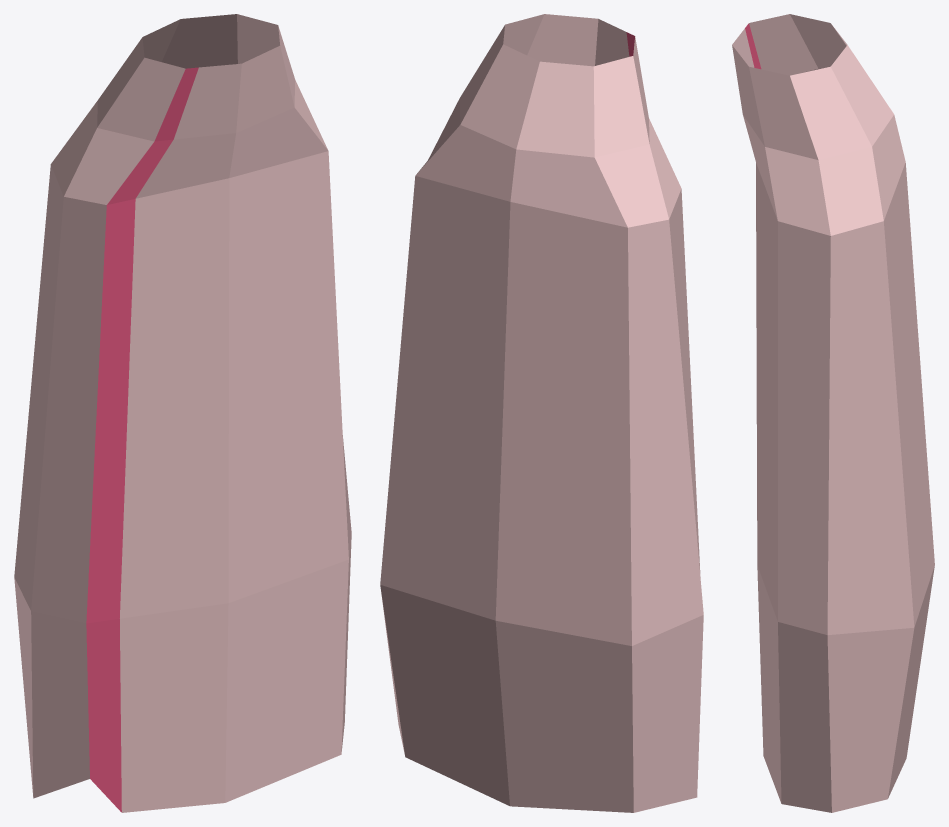
The model's file is kimono_bottom.fbx.
3 renders of one model, left to right at view 1: azimuth 30°, elevation 25°; view 2: azimuth 150°, elevation 25°; view 3: azimuth 270°, elevation 25°, orthographic. The views are drawn at different scales.
Parts seen in each view (by area): view 1: KimonoBottom; view 2: KimonoBottom; view 3: KimonoBottom.
Boxes of the visible parts, x1,y1,x2,y2 form: KimonoBottom: (14, 14, 351, 812); KimonoBottom: (380, 14, 703, 812); KimonoBottom: (732, 14, 934, 812).
Size of the model in its own units: 116 by 261 by 67.35.
